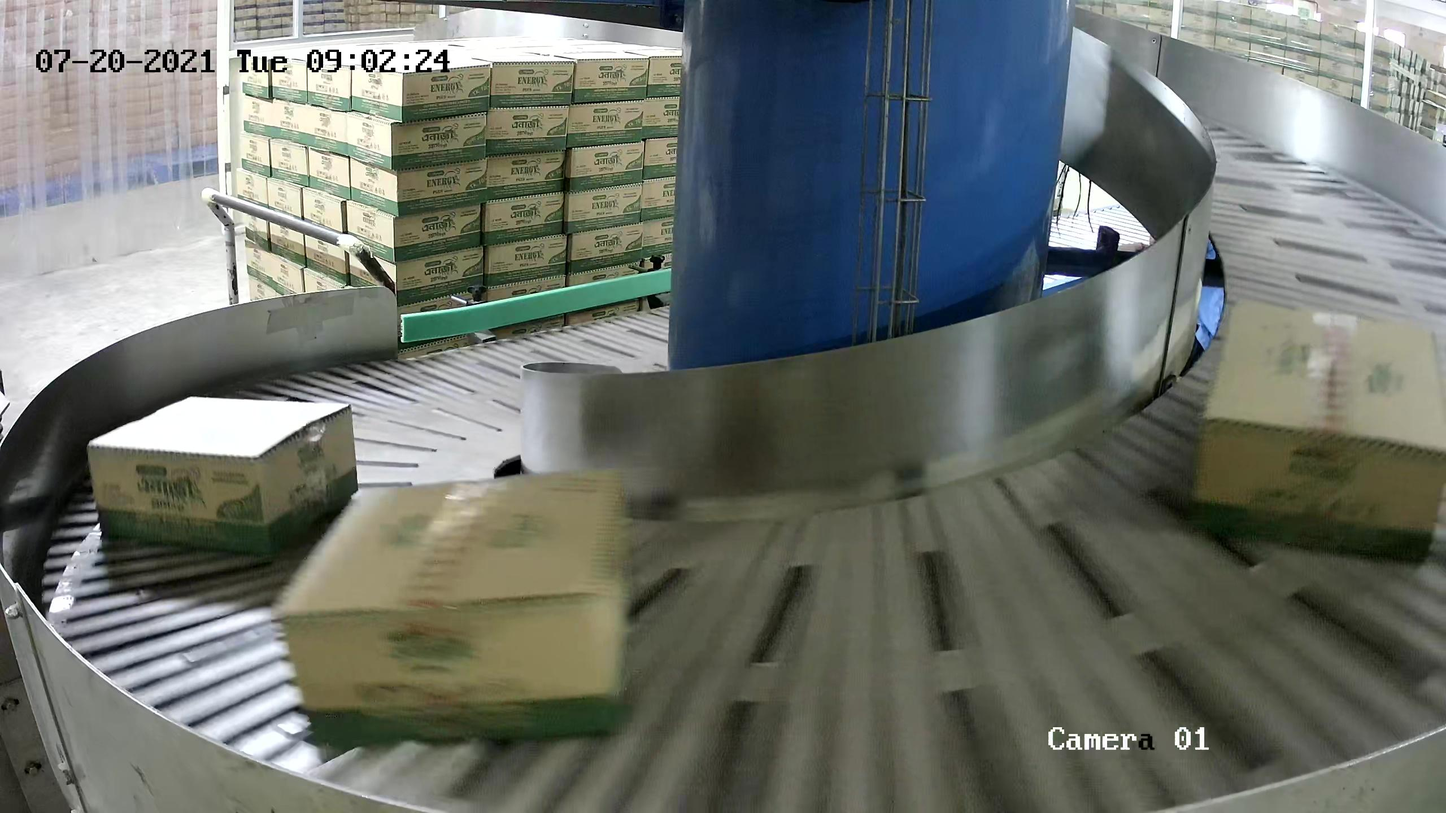Box: (271, 464, 632, 753), (1187, 293, 1446, 565), (86, 395, 362, 554)
